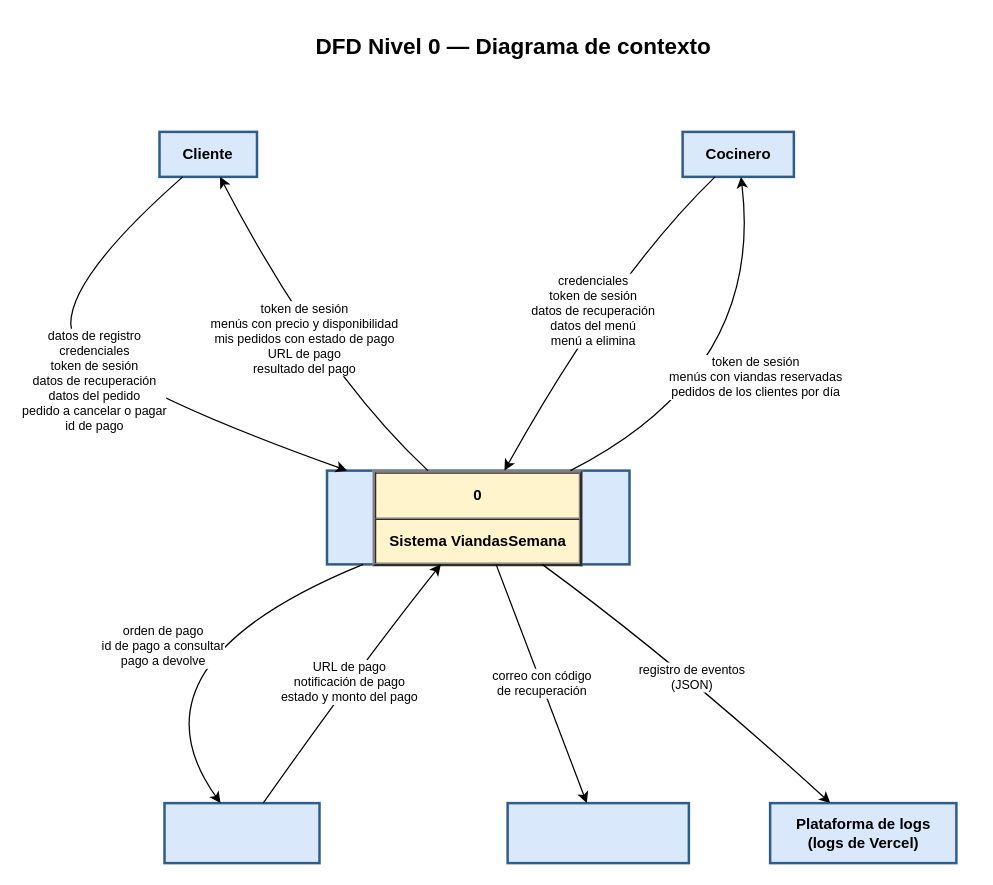
Some shapes in this 993 by 885 pixel diagram are drawn without their labels. The centre of each missing label's shape, as x and y in pixels:
Mercado Pago (API de pagos): the point at 241,832
Servicio de correo (SMTP de Gmail): the point at 598,832
